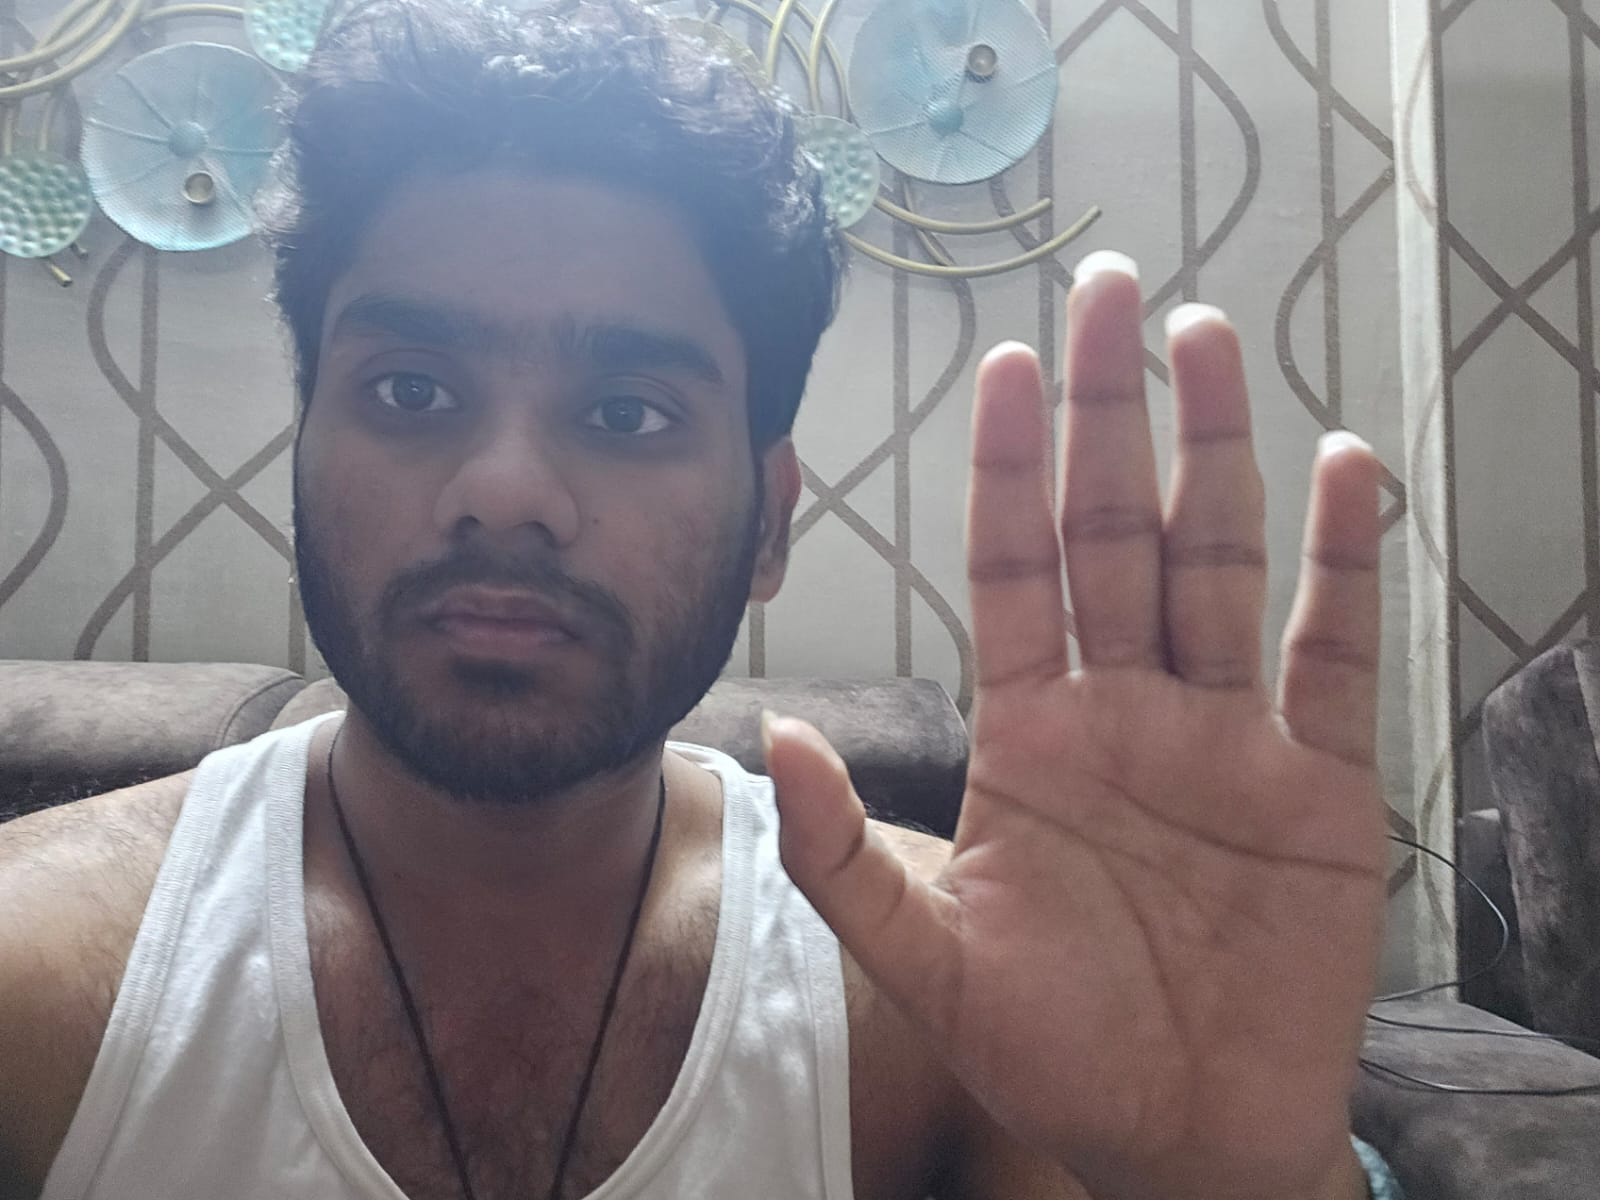hello: (758, 245, 1380, 1174)
